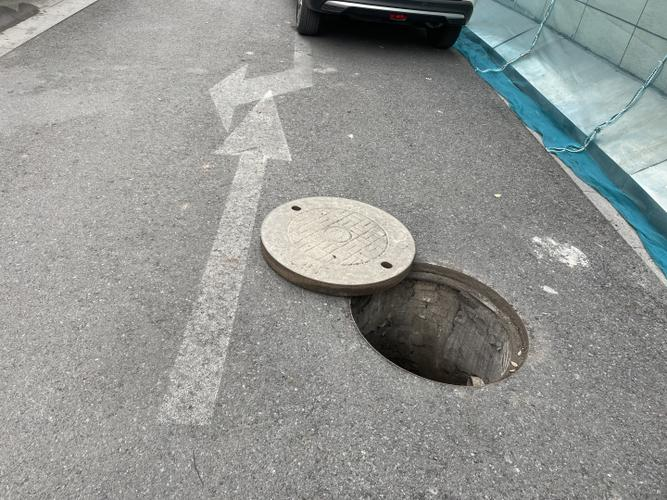uncovered: (244, 181, 540, 404)
